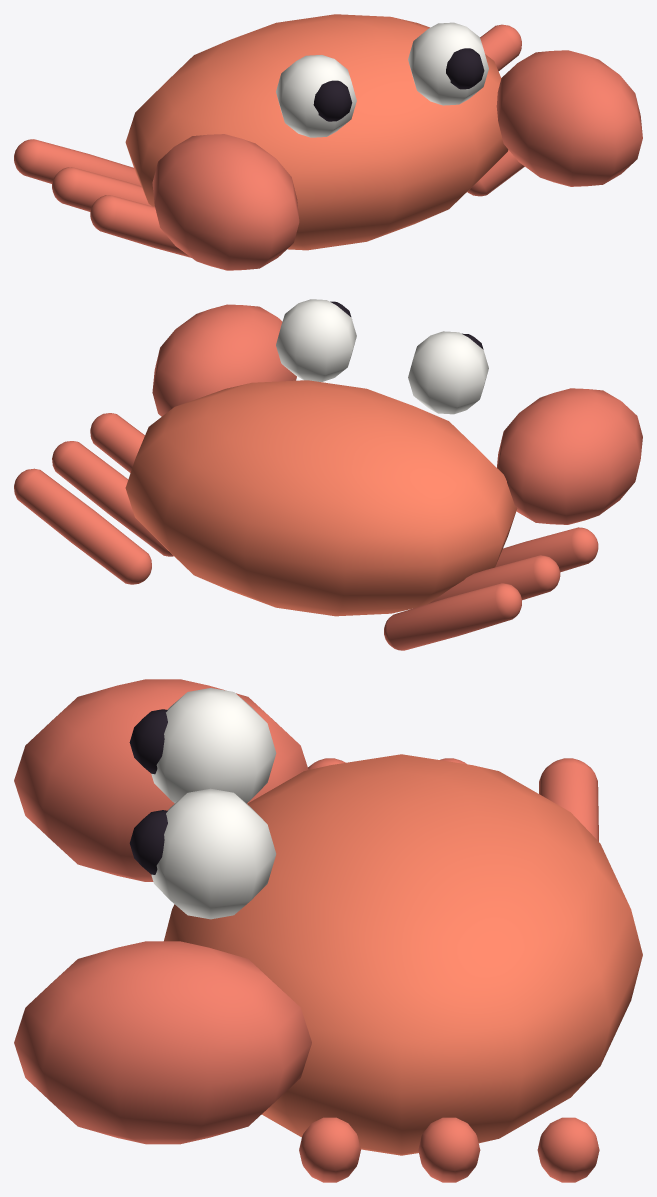
Rendered from BeachCrab.fbx.
3 views of the same model, one above another, from view 1: azimuth 30°, elevation 25°; view 2: azimuth 150°, elevation 25°; view 3: azimuth 270°, elevation 25° (orthographic). The views are drawn at different scales.
Parts seen in each view (by area): view 1: BeachCrab; view 2: BeachCrab; view 3: BeachCrab.
Part boxes in pixels (x1,y1,x2,y2): BeachCrab: (14,14,642,270); BeachCrab: (14,299,642,650); BeachCrab: (14,679,642,1182).
Bounding box in the file's own units: 0.7609 × 0.3314 × 0.5274.
